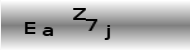7: (85, 18, 98, 31)
E: (24, 21, 36, 35)
Z: (71, 7, 87, 20)
a: (42, 26, 54, 37)
j: (103, 24, 111, 41)
